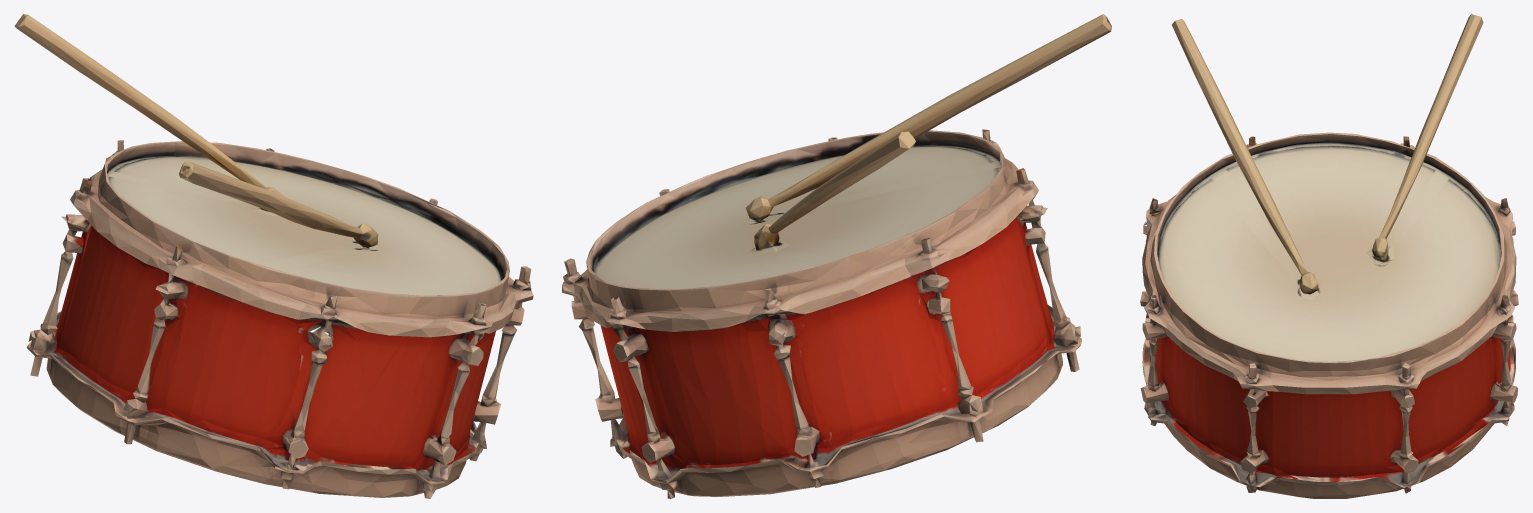
File: tambor.glb
3 renders of one model, left to right at view 1: azimuth 30°, elevation 25°; view 2: azimuth 150°, elevation 25°; view 3: azimuth 270°, elevation 25°, orthographic. The views are drawn at different scales.
Visible parts, largest first — view 1: tripo_node_96d7cb54-68cc-4070-aaeb-f18330c57545; view 2: tripo_node_96d7cb54-68cc-4070-aaeb-f18330c57545; view 3: tripo_node_96d7cb54-68cc-4070-aaeb-f18330c57545.
Part boxes in pixels (x1,y1,x2,y2): tripo_node_96d7cb54-68cc-4070-aaeb-f18330c57545: (14, 14, 533, 498); tripo_node_96d7cb54-68cc-4070-aaeb-f18330c57545: (562, 14, 1111, 498); tripo_node_96d7cb54-68cc-4070-aaeb-f18330c57545: (1140, 14, 1518, 498).
Size of the model in its own units: 0.9995 by 0.9997 by 0.9616.
Materials: 1 (1 with a texture image).
